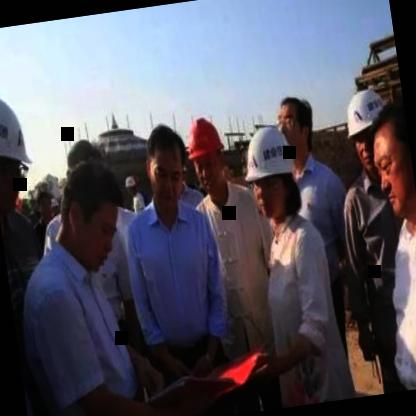head: (53, 150, 130, 270), (360, 93, 416, 211), (142, 120, 194, 210), (270, 88, 319, 158), (61, 135, 103, 199)
helmet: (238, 116, 305, 228), (0, 78, 39, 229), (182, 108, 232, 202), (336, 84, 386, 174), (122, 170, 140, 200)
